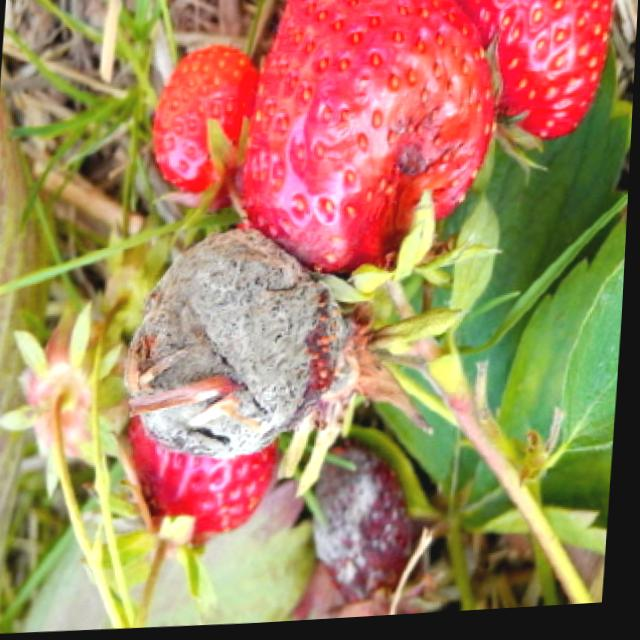Gray Mold: (130, 230, 365, 459), (315, 450, 417, 605)
